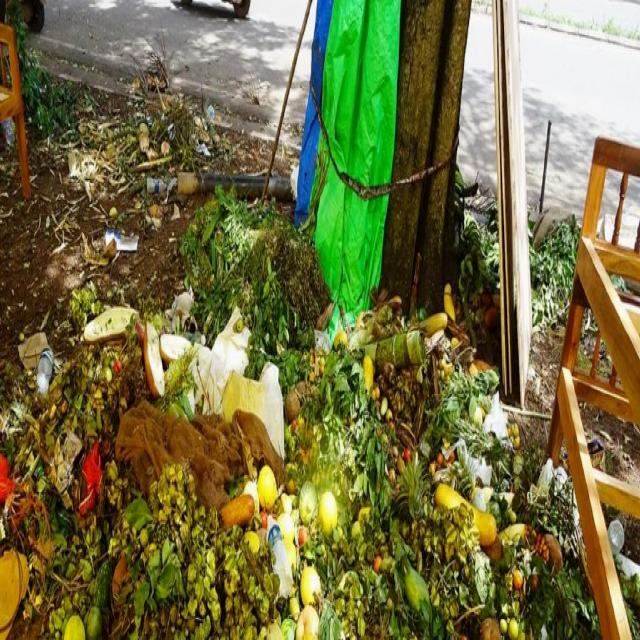wet: (362, 489, 462, 636), (125, 29, 218, 172), (1, 2, 78, 140), (49, 330, 132, 450), (196, 208, 270, 306), (240, 261, 300, 374), (216, 524, 276, 637), (135, 498, 195, 610), (529, 214, 582, 331), (15, 458, 65, 565), (458, 212, 498, 326), (180, 524, 220, 634), (435, 482, 496, 546), (287, 387, 335, 462), (136, 329, 186, 387), (84, 315, 140, 346), (257, 463, 281, 516)
